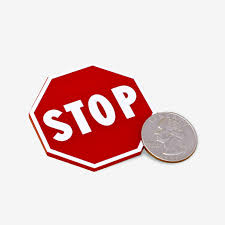stop sign: (29, 64, 152, 168)
